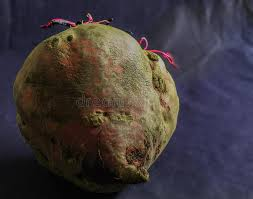beet: (14, 15, 179, 191)
